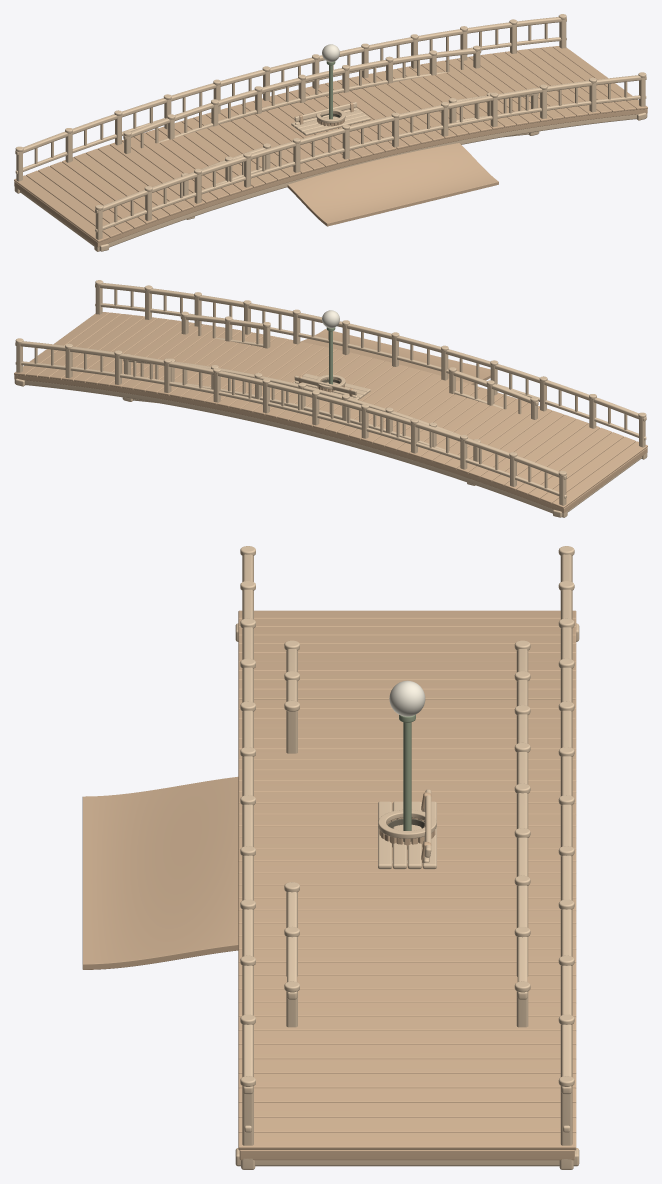
Rendered from park-furniture-v57.glb.
3 views of the same model, one above another, from view 1: azimuth 30°, elevation 25°; view 2: azimuth 150°, elevation 25°; view 3: azimuth 270°, elevation 25° (orthographic). The views are drawn at different scales.
Parts seen in each view (by area): view 1: arched-bridge-upper-v57__honey_softwood, arched-bridge-upper-v57__sanded_timber, arched-bridge-lower-v57__honey_softwood, arched-bridge-lower-v57__sanded_timber, picnic-table-v57__sanded_timber, back-bench-v57__sanded_timber; view 2: arched-bridge-upper-v57__honey_softwood, arched-bridge-upper-v57__sanded_timber, arched-bridge-lower-v57__sanded_timber, arched-bridge-lower-v57__honey_softwood, back-bench-v57__sanded_timber; view 3: arched-bridge-upper-v57__honey_softwood, arched-bridge-lower-v57__honey_softwood, arched-bridge-upper-v57__sanded_timber, arched-bridge-lower-v57__sanded_timber, picnic-table-v57__sanded_timber, globe-lamp-v57__lamp_sage, globe-lamp-v57__milk_glass_unlit.
Boxes of the visible parts, x1,y1,x2,y2 form: arched-bridge-upper-v57__honey_softwood: (14, 46, 647, 247); arched-bridge-upper-v57__sanded_timber: (14, 14, 647, 251); arched-bridge-lower-v57__honey_softwood: (287, 143, 498, 226); arched-bridge-lower-v57__sanded_timber: (123, 45, 539, 219); picnic-table-v57__sanded_timber: (291, 107, 370, 135); back-bench-v57__sanded_timber: (294, 102, 357, 124); arched-bridge-upper-v57__honey_softwood: (14, 312, 647, 513); arched-bridge-upper-v57__sanded_timber: (14, 280, 647, 517); arched-bridge-lower-v57__sanded_timber: (122, 311, 538, 485); arched-bridge-lower-v57__honey_softwood: (301, 329, 490, 385); back-bench-v57__sanded_timber: (294, 375, 357, 397); arched-bridge-upper-v57__honey_softwood: (238, 610, 576, 1160); arched-bridge-lower-v57__honey_softwood: (82, 777, 238, 969); arched-bridge-upper-v57__sanded_timber: (235, 546, 579, 1169); arched-bridge-lower-v57__sanded_timber: (284, 640, 530, 1027); picnic-table-v57__sanded_timber: (378, 801, 436, 869); globe-lamp-v57__lamp_sage: (399, 714, 415, 830); globe-lamp-v57__milk_glass_unlit: (389, 680, 425, 716).
Size of the model in its own units: 22.27 by 4.25 by 8.7.
